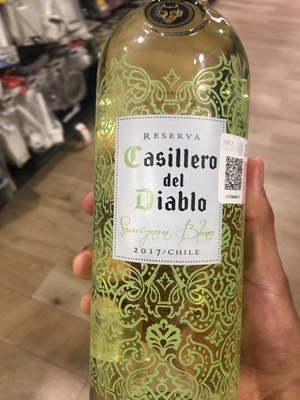casillero del diablo sauvignon blanc: (92, 5, 258, 400)
